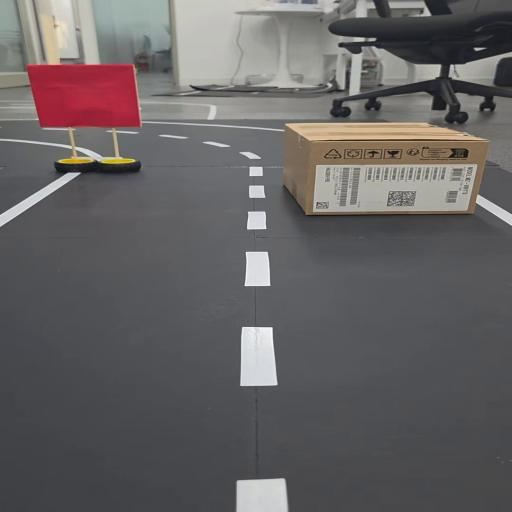Box: (269, 112, 501, 222)
Sign_A: (13, 62, 150, 172)
